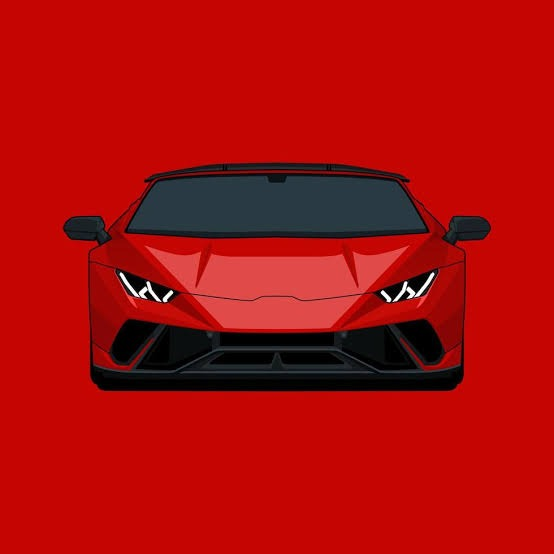car: (71, 165, 493, 406)
